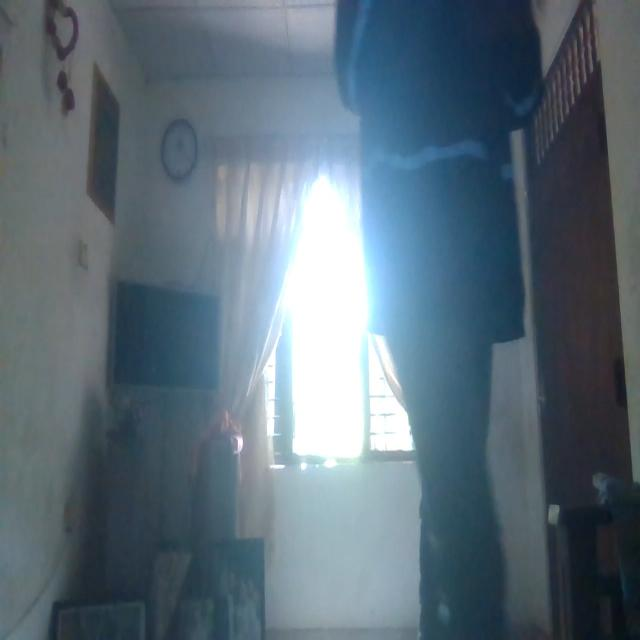Jacket_Wearer: (345, 0, 533, 342)
Person: (331, 0, 542, 640)
